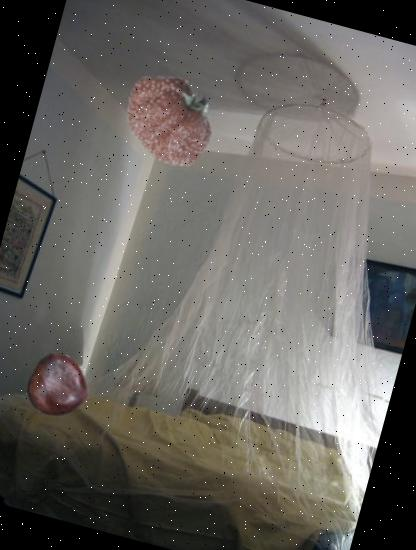Chestnut: (21, 348, 99, 427)
Strawberry: (108, 56, 232, 180)
